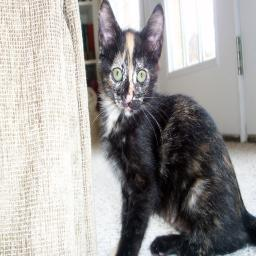catnose: (123, 86, 136, 104)
